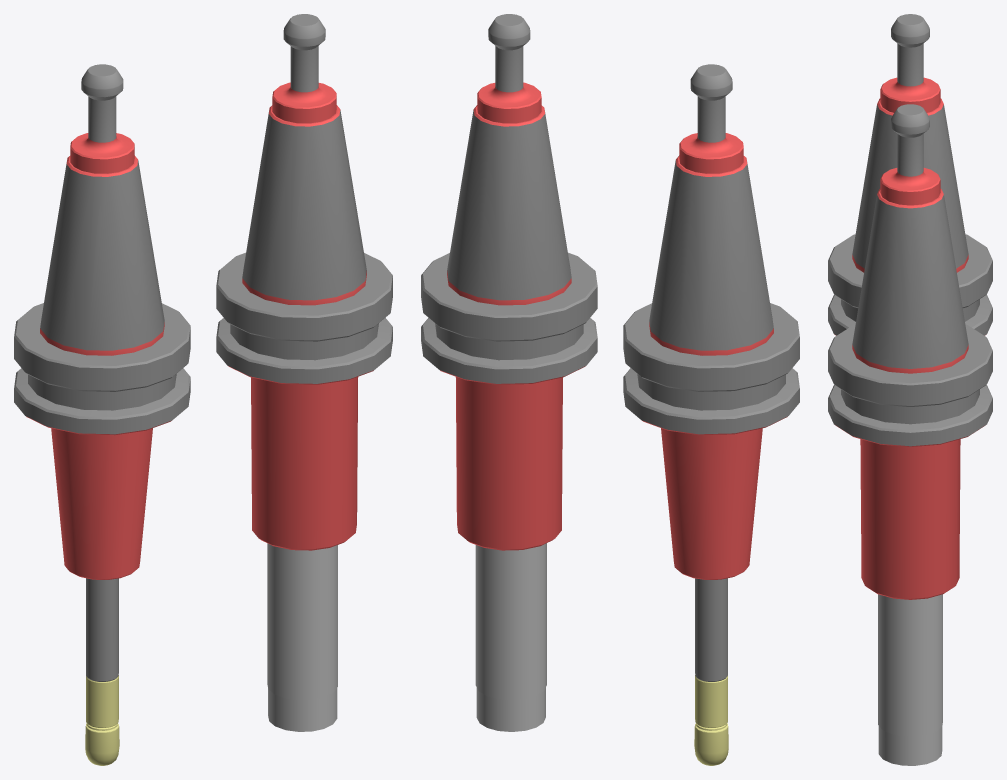
File: Knife.FBX
3 renders of one model, left to right at view 1: azimuth 30°, elevation 25°; view 2: azimuth 150°, elevation 25°; view 3: azimuth 270°, elevation 25°, orthographic. The views are drawn at different scales.
Visible parts, largest first — view 1: Knife_Big, KnifeB; view 2: Knife_Big, KnifeB; view 3: Knife_Big, KnifeB.
Part boxes in pixels (left/top/right/bottom): Knife_Big: left=216, top=14, right=392, bottom=731; KnifeB: left=14, top=64, right=190, bottom=765; Knife_Big: left=421, top=14, right=597, bottom=731; KnifeB: left=623, top=64, right=799, bottom=765; Knife_Big: left=828, top=104, right=992, bottom=765; KnifeB: left=828, top=14, right=992, bottom=335.
Size of the model in its own units: 16.28 by 7.05 by 30.38.
